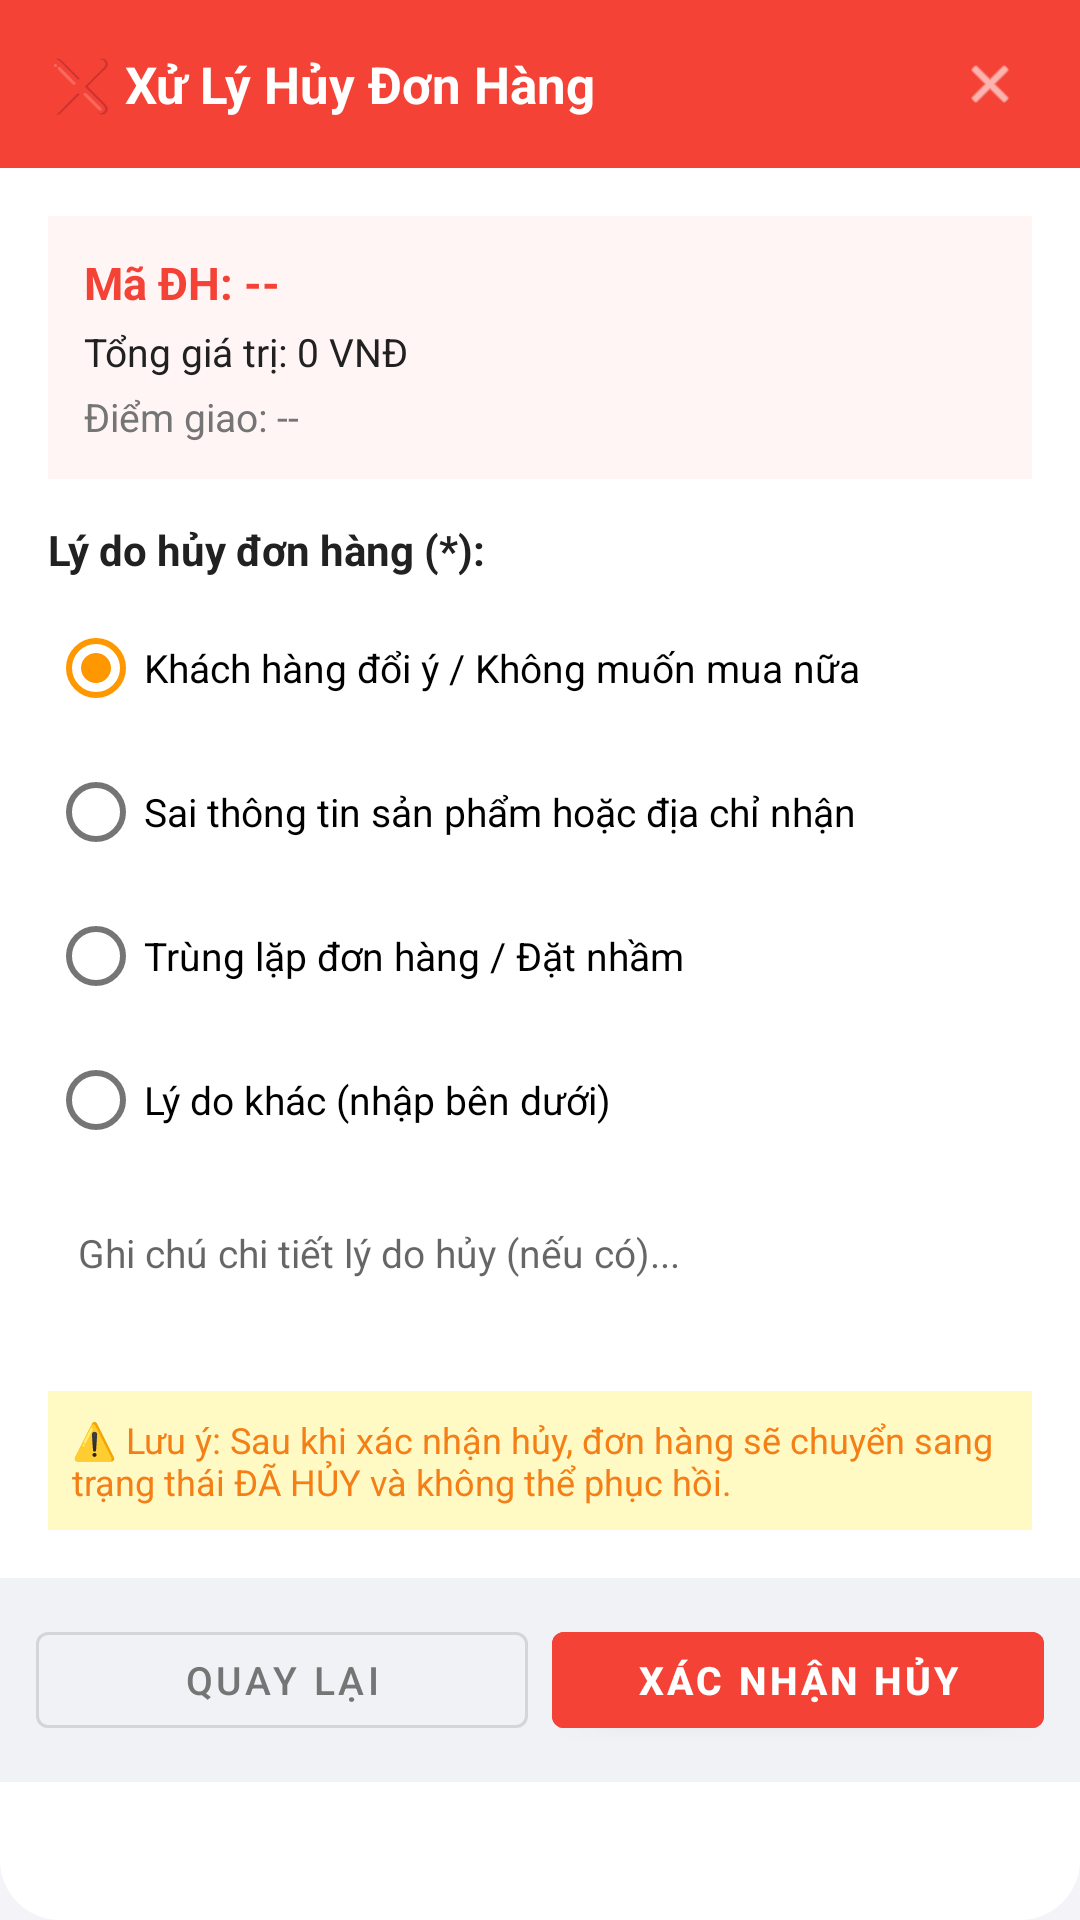

Icon bounding boxes for this 1080px×1920px phone screenshot, format box=[x1, y1, x2, y2]:
Đóng: box=[971, 65, 1009, 103]
